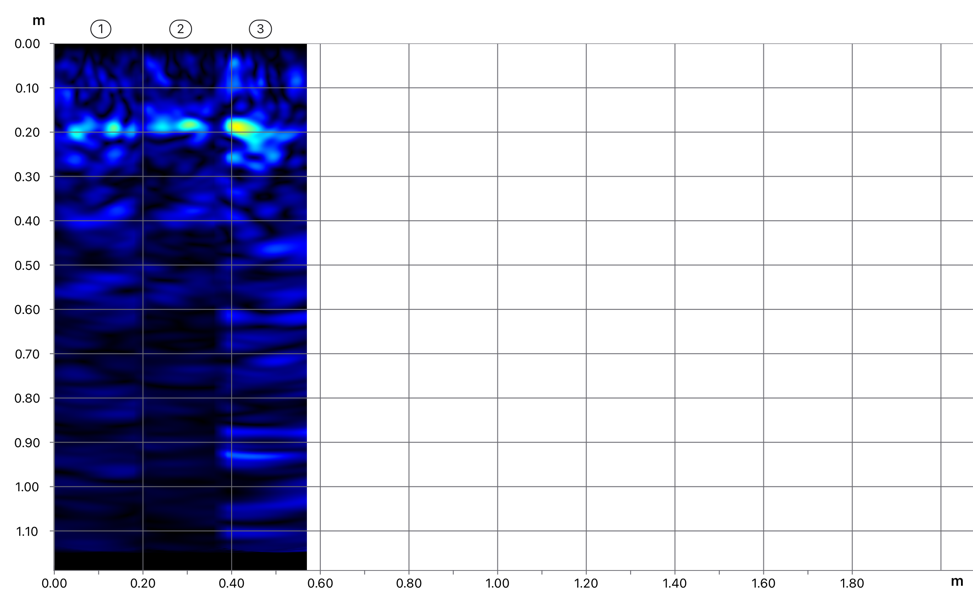crop: (3, 3, 308, 289)
